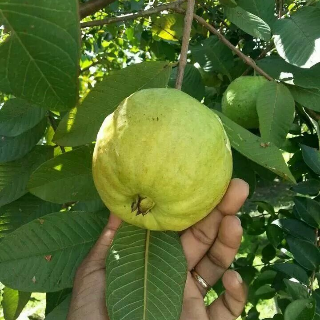oi: (93, 90, 232, 229)
